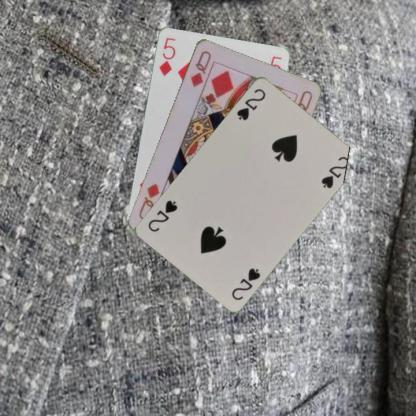2s: (234, 86, 267, 122), (229, 265, 262, 301)
5d: (156, 35, 177, 77)
Qd: (188, 48, 212, 88)
